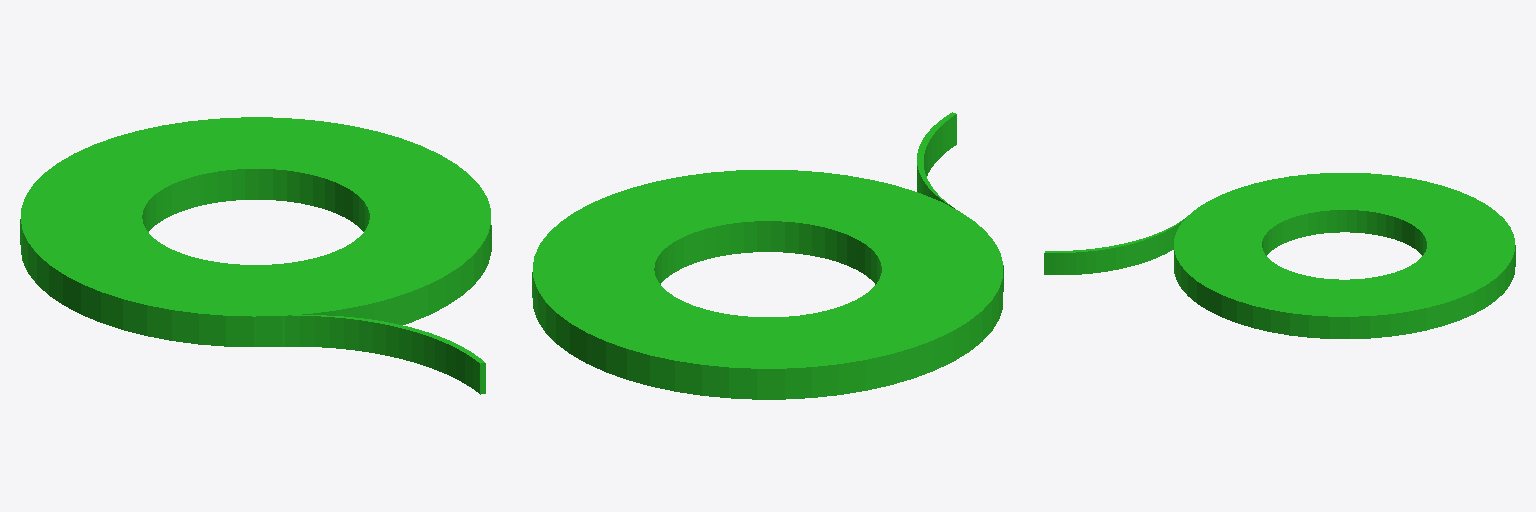
robot.urdf — milk:
<?xml version="1.0" encoding="utf-8"?>
<robot name="milk">
  <link name="base_link">
    <contact>
      <lateral_friction value="0.5"/>
      <rolling_friction value="1.0"/>
      <contact_cfm value="1.0"/>
      <contact_erp value="1.0"/>
    </contact>
    <inertial>
      <origin rpy="0 0 0" xyz="0 0 0"/>
      <mass value="5"/>
      <inertia ixx="0" ixy="0" ixz="0" iyy="0" iyz="0" izz="0"/>
    </inertial>
    <visual>
      <origin rpy="1.57 1.57 0" xyz="0 0 0"/>
      <geometry>
        <mesh filename="models/meshes/tape/tape.obj" scale="1.2 1.2 1.2"/>
      </geometry>
      <material name="tray_material">
        <color rgba="0.2 0.8 0.2 1"/>
      </material>
    </visual>
    <collision>
      <origin rpy="1.57 1.57 0" xyz="0 0 0"/>
      <geometry>
        <mesh filename="models/meshes/tape/tape.obj" scale="1.2 1.2 1.2"/>
      </geometry>
    </collision>
  </link>
</robot>

--- What the picture shows (computed from the rendered views, not written in the file) ---
Views: 3 orthographic renders of the robot side by side, from view 1: azimuth 30°, elevation 25°; view 2: azimuth 150°, elevation 25°; view 3: azimuth 270°, elevation 25°.
Model milk with 1 links and 0 joints (none), rooted at base_link, posed all joints at 0.
Links seen in each view (by area): view 1: base_link; view 2: base_link; view 3: base_link.
Link boxes in pixels (left/top/right/bottom): base_link: left=20, top=117, right=491, bottom=394; base_link: left=532, top=112, right=1003, bottom=399; base_link: left=1044, top=173, right=1515, bottom=338.
Size in the robot's own frame: 0.1986 by 0.2738 by 0.0146 metres.
Meshes: 1 distinct files referenced, 1 mesh visuals loaded (1 OBJ).